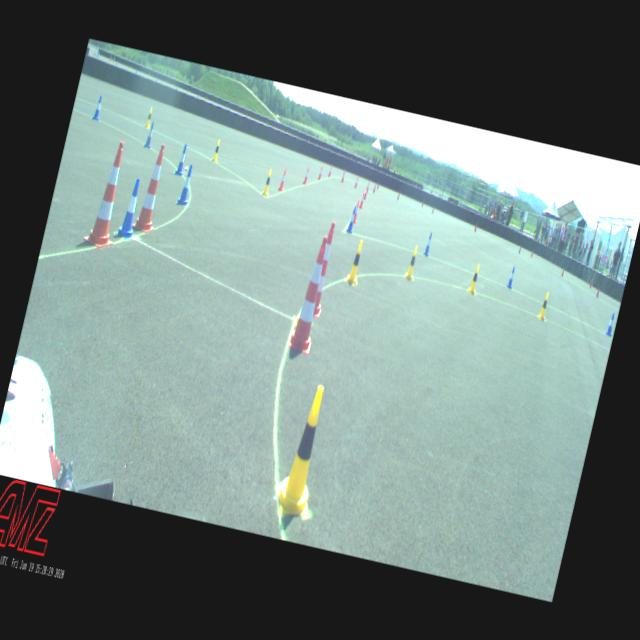blue_cone: (114, 175, 147, 242), (176, 163, 197, 206), (173, 143, 190, 176), (144, 120, 156, 148), (346, 205, 358, 232), (92, 94, 104, 120), (604, 312, 616, 336), (422, 232, 433, 256), (505, 266, 516, 288)
large_orange_cone: (287, 232, 335, 354), (82, 138, 134, 250), (130, 141, 172, 234), (310, 221, 340, 317)
orange_cone: (278, 167, 288, 191), (352, 200, 361, 223), (302, 166, 310, 183), (358, 190, 365, 208), (317, 166, 323, 180), (327, 164, 333, 177), (353, 175, 359, 188), (340, 170, 346, 182), (364, 185, 368, 199), (366, 182, 370, 194)
unknown_cone: (595, 284, 600, 298), (473, 222, 478, 232), (372, 182, 376, 193), (589, 278, 593, 288), (561, 266, 565, 276), (530, 248, 534, 258), (396, 192, 400, 200), (518, 245, 521, 254), (432, 204, 434, 213)
yellow_cone: (272, 380, 336, 518), (346, 238, 366, 284), (404, 244, 419, 279), (466, 263, 482, 295), (536, 291, 551, 320), (262, 168, 274, 195), (210, 138, 222, 162), (144, 106, 154, 128)
